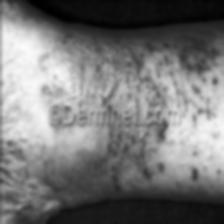Non-Cancerous Skin Condition: (27, 30, 224, 102), (95, 128, 224, 191)
